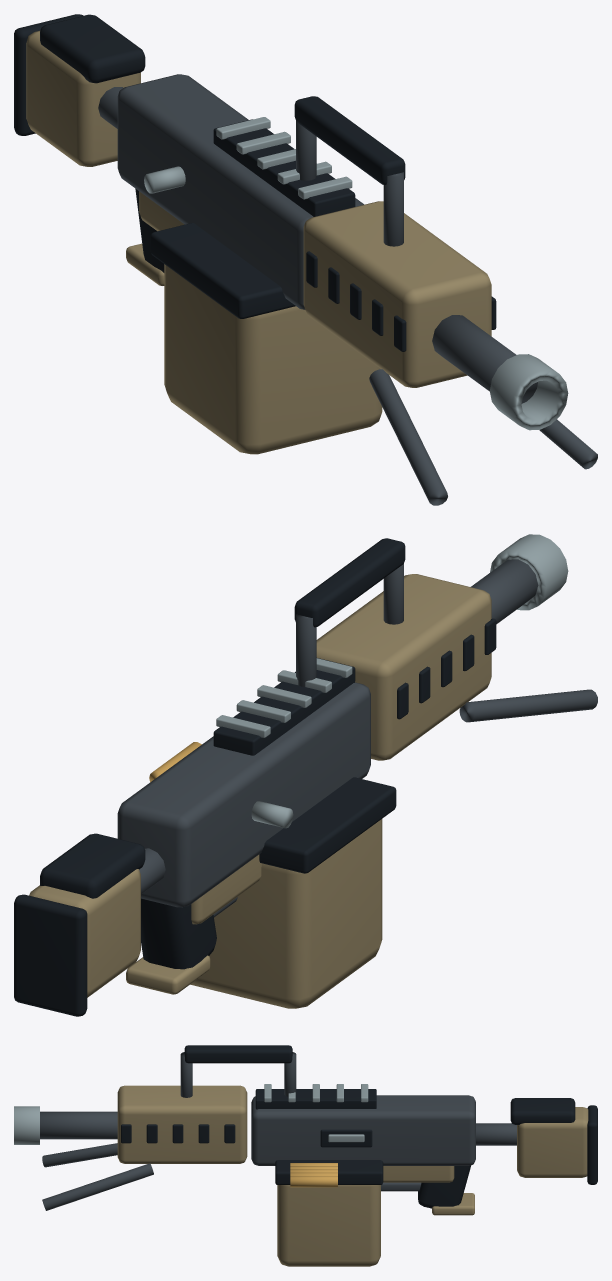
3 views of the same model, one above another, from view 1: azimuth 30°, elevation 25°; view 2: azimuth 150°, elevation 25°; view 3: azimuth 270°, elevation 25° (orthographic). The views are drawn at different scales.
Visible parts, largest first — view 1: m249_m249 painted furniture, m249_Cerakote graphite, m249_Recesses and rubber, m249_Machined edges; view 2: m249_m249 painted furniture, m249_Cerakote graphite, m249_Recesses and rubber, m249_Machined edges; view 3: m249_m249 painted furniture, m249_Cerakote graphite, m249_Recesses and rubber, m249_Machined edges, m249_Warm brass details.
Part boxes in pixels (x1=…): m249_m249 painted furniture: x1=26, y1=30, x2=491, y2=454; m249_Cerakote graphite: x1=98, y1=74, x2=597, y2=505; m249_Recesses and rubber: x1=14, y1=14, x2=496, y2=351; m249_Machined edges: x1=144, y1=117, x2=568, y2=430; m249_m249 painted furniture: x1=29, y1=574, x2=491, y2=1008; m249_Cerakote graphite: x1=117, y1=559, x2=597, y2=917; m249_Recesses and rubber: x1=14, y1=538, x2=496, y2=1016; m249_Machined edges: x1=216, y1=534, x2=568, y2=828; m249_m249 painted furniture: x1=117, y1=1085, x2=588, y2=1266; m249_Cerakote graphite: x1=40, y1=1052, x2=516, y2=1210; m249_Recesses and rubber: x1=121, y1=1045, x2=597, y2=1208; m249_Machined edges: x1=14, y1=1084, x2=368, y2=1144; m249_Warm brass details: x1=290, y1=1163, x2=337, y2=1187.
Size of the model in its own units: 0.3187 by 0.5175 by 1.35.
